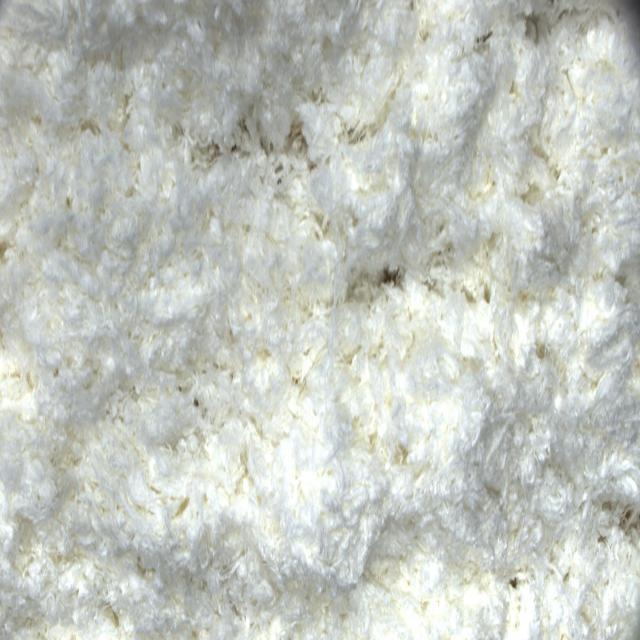dust: (379, 263, 405, 294)
